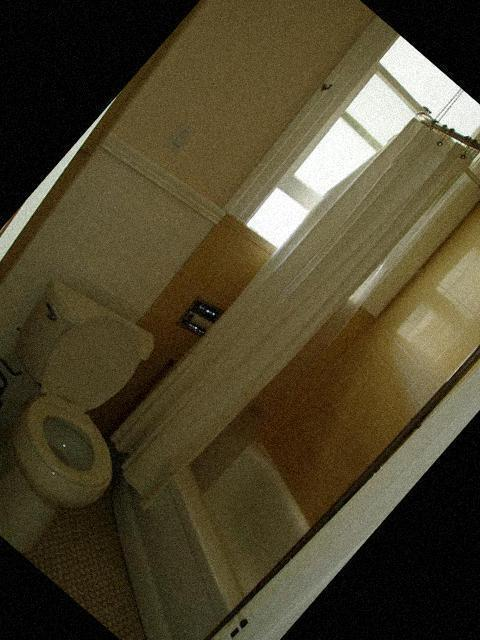Sanitario: (0, 264, 205, 572)
